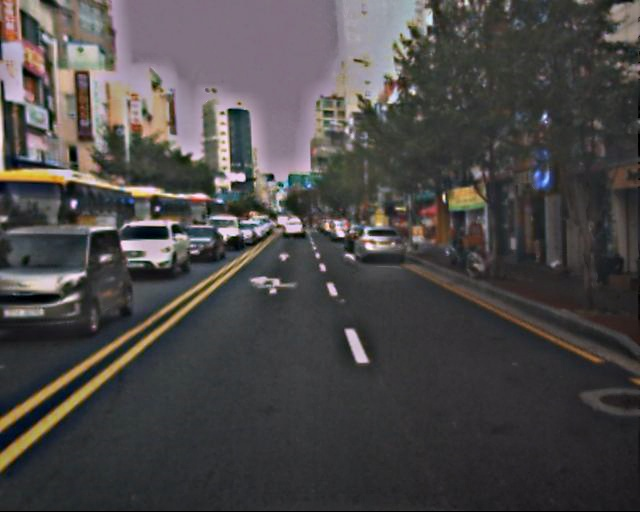person: (579, 218, 611, 290), (525, 214, 548, 269)
